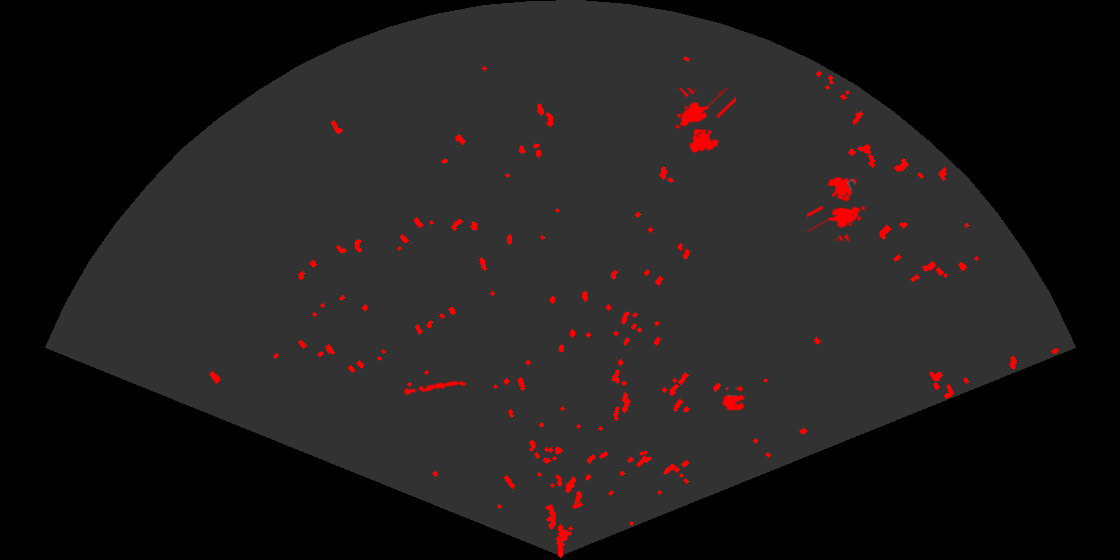ball: (721, 385, 747, 412)
cage: (674, 88, 736, 155), (807, 175, 867, 241)
chain: (401, 379, 468, 397)
